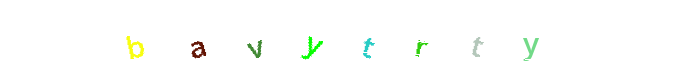A: (158, 0, 238, 80)
B: (95, 0, 175, 80)
R: (327, 0, 407, 80)
T: (310, 0, 390, 80), (334, 0, 414, 80)
V: (210, 0, 290, 80)
Y: (302, 0, 382, 80), (407, 0, 487, 80)
